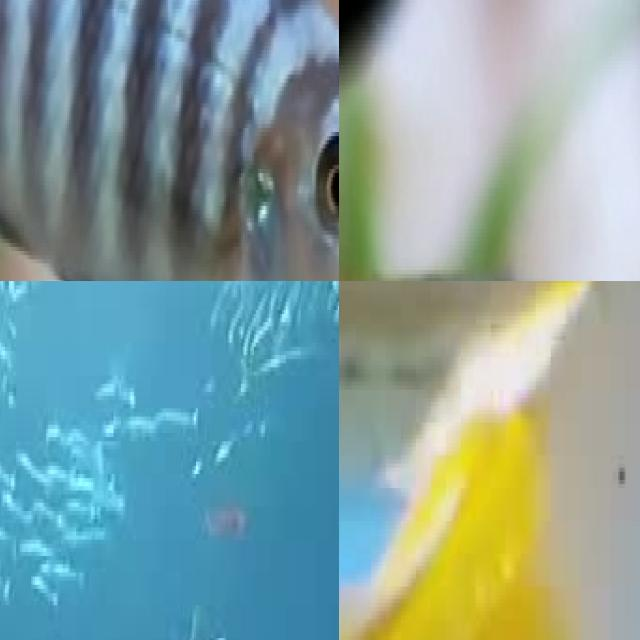fish: (0, 0, 339, 281), (339, 281, 640, 402)
